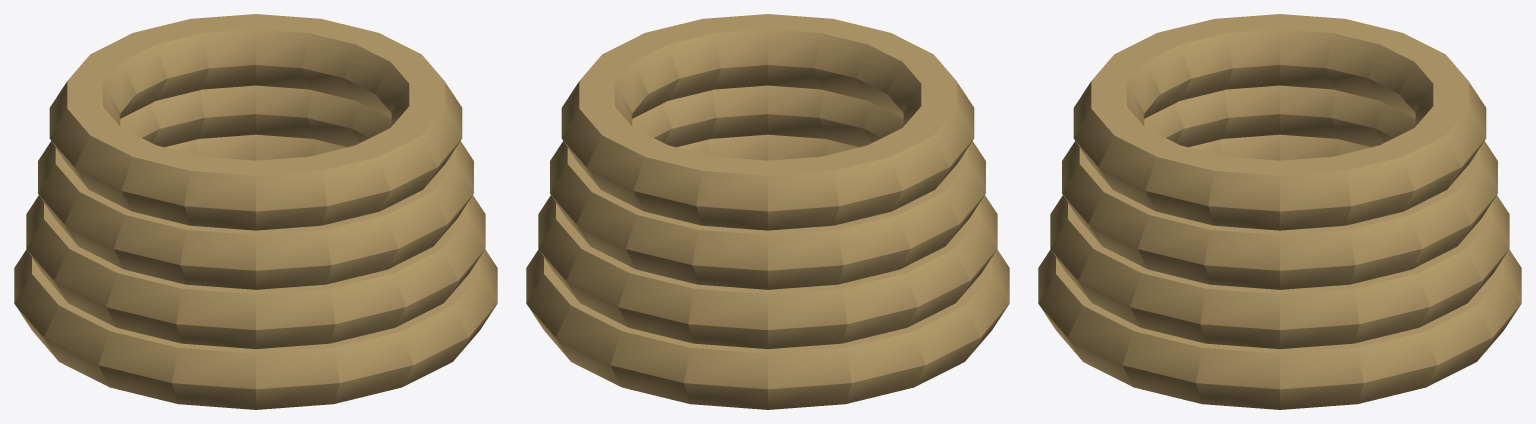
Rendered from rope_coil.glb.
The picture shows the model from 3 angles, left to right: view 1: azimuth 30°, elevation 25°; view 2: azimuth 150°, elevation 25°; view 3: azimuth 270°, elevation 25°; orthographic projection.
Parts seen in each view (by area): view 1: decor-rope_coil; view 2: decor-rope_coil; view 3: decor-rope_coil.
Part boxes in pixels (box(x1,y1,x2,y2)): decor-rope_coil: box(14, 14, 497, 409); decor-rope_coil: box(526, 14, 1009, 409); decor-rope_coil: box(1038, 14, 1521, 409).
Size of the model in its own units: 0.82 by 0.4039 by 0.8076.
